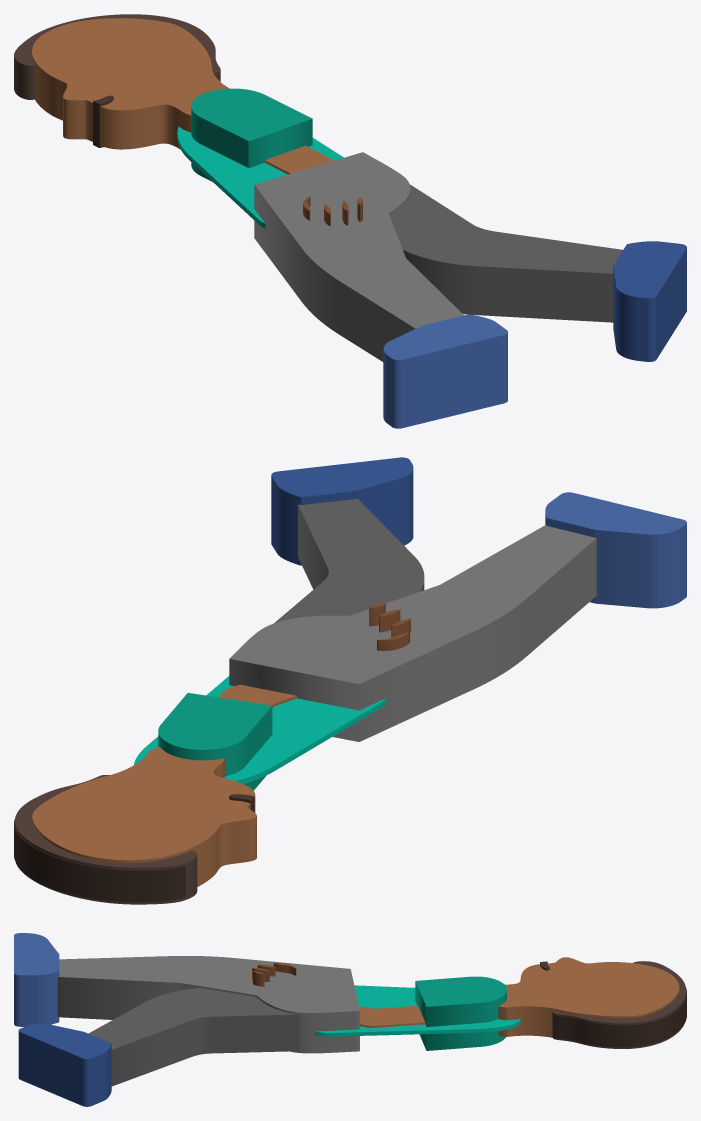
Rendered from emoji_u1f6b6_1f3fe_200d_2642.glb.
3 renders of one model, top to bottom at view 1: azimuth 30°, elevation 25°; view 2: azimuth 150°, elevation 25°; view 3: azimuth 270°, elevation 25°, orthographic. The views are drawn at different scales.
Visible parts, largest first — view 1: emoji_u1f6b6_1f3fe_200d_2642; view 2: emoji_u1f6b6_1f3fe_200d_2642; view 3: emoji_u1f6b6_1f3fe_200d_2642.
Part boxes in pixels (x1,y1,x2,y2): emoji_u1f6b6_1f3fe_200d_2642: (14,14,686,428); emoji_u1f6b6_1f3fe_200d_2642: (14,457,686,904); emoji_u1f6b6_1f3fe_200d_2642: (14,933,686,1106).
Size of the model in its own units: 0.0145 by 0.0036 by 0.0332.
